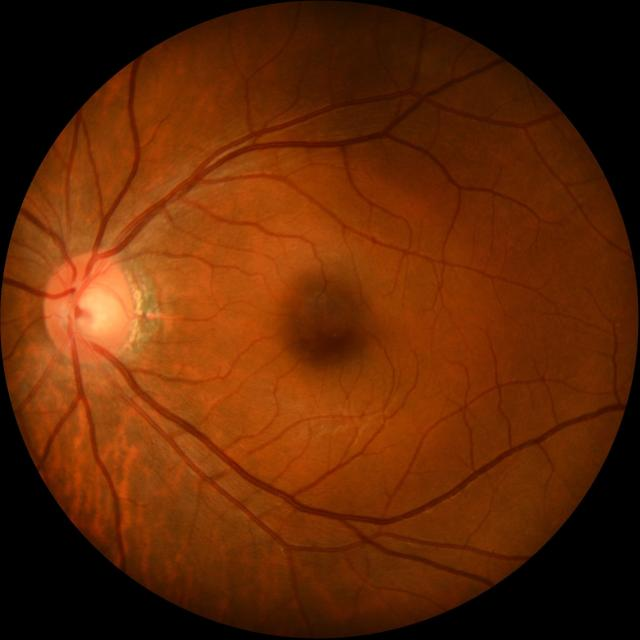OC: (72, 286, 112, 335)
OD: (44, 256, 132, 362)
